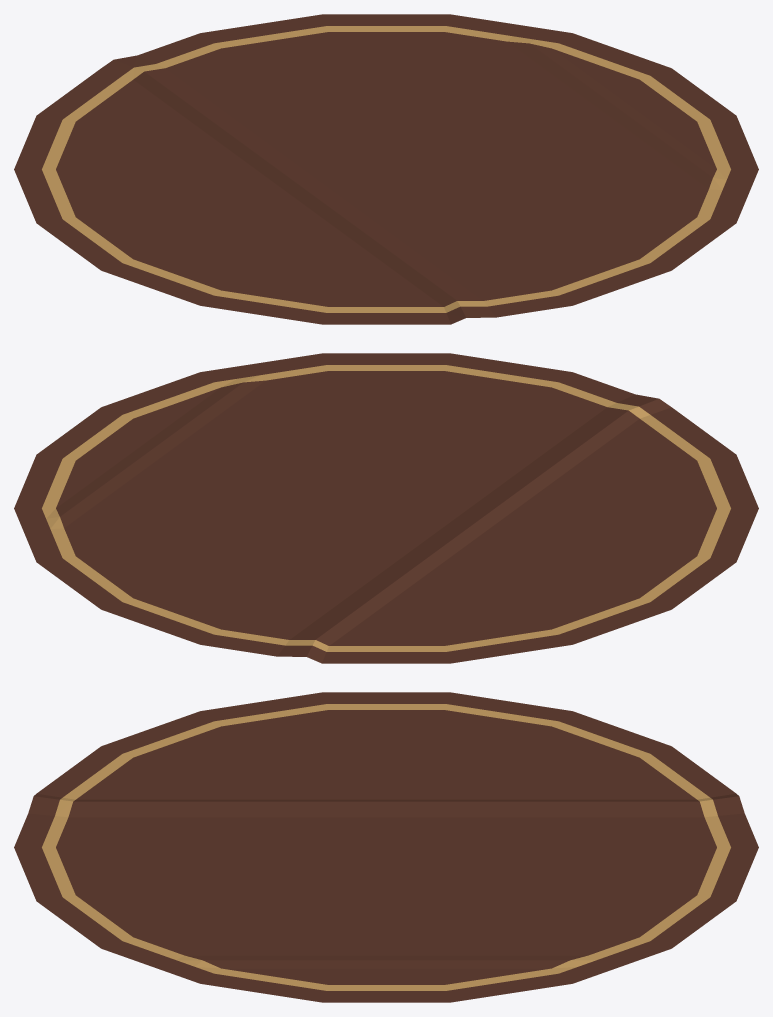
File: home_carpet_round.fbx
The picture shows the model from 3 angles, top to bottom: view 1: azimuth 30°, elevation 25°; view 2: azimuth 150°, elevation 25°; view 3: azimuth 270°, elevation 25°; orthographic projection.
Visible parts, largest first — view 1: home_carpet_round; view 2: home_carpet_round; view 3: home_carpet_round.
Boxes of the visible parts, bbox=[...] form: home_carpet_round: bbox=[14, 14, 758, 324]; home_carpet_round: bbox=[14, 353, 758, 663]; home_carpet_round: bbox=[14, 692, 758, 1002].
Size of the model in its own units: 2 by 0.0126 by 2.03.
